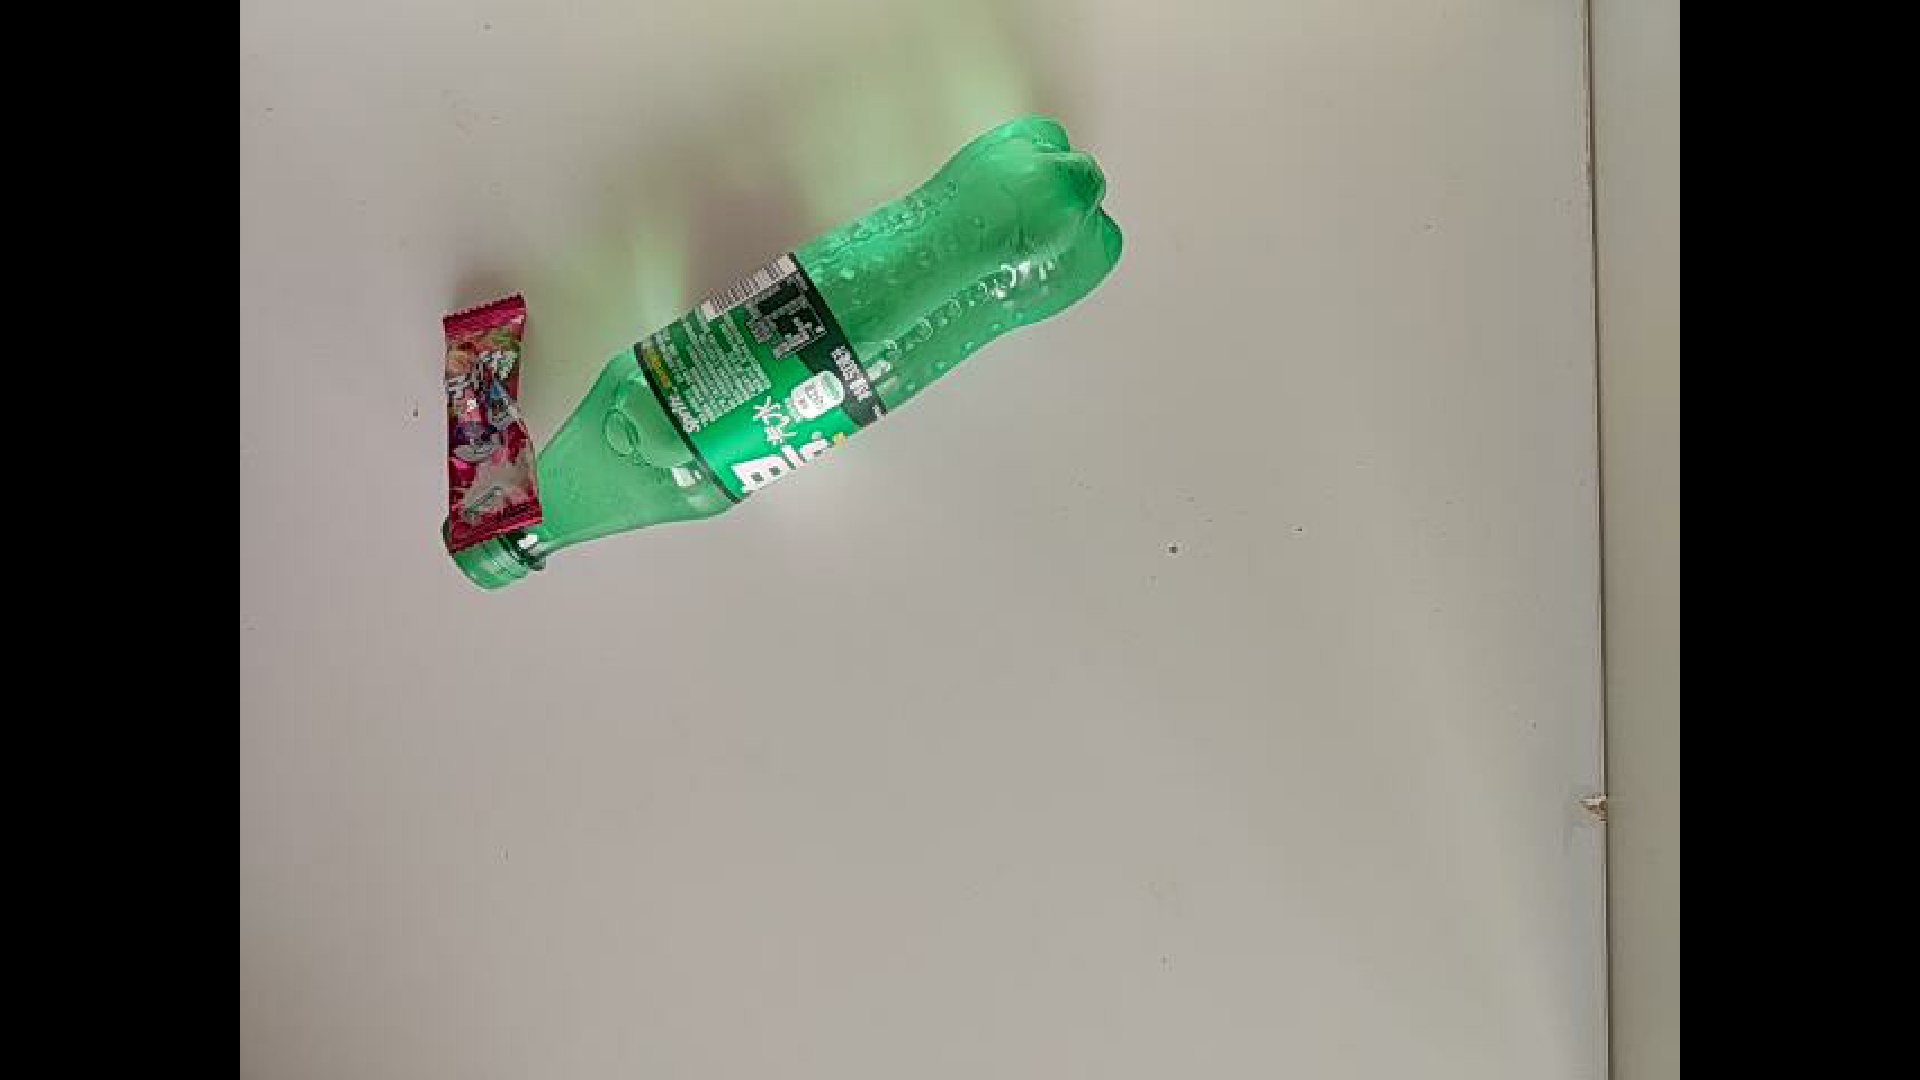sprite: (402, 258, 1238, 651)
sugar: (440, 291, 549, 555)
